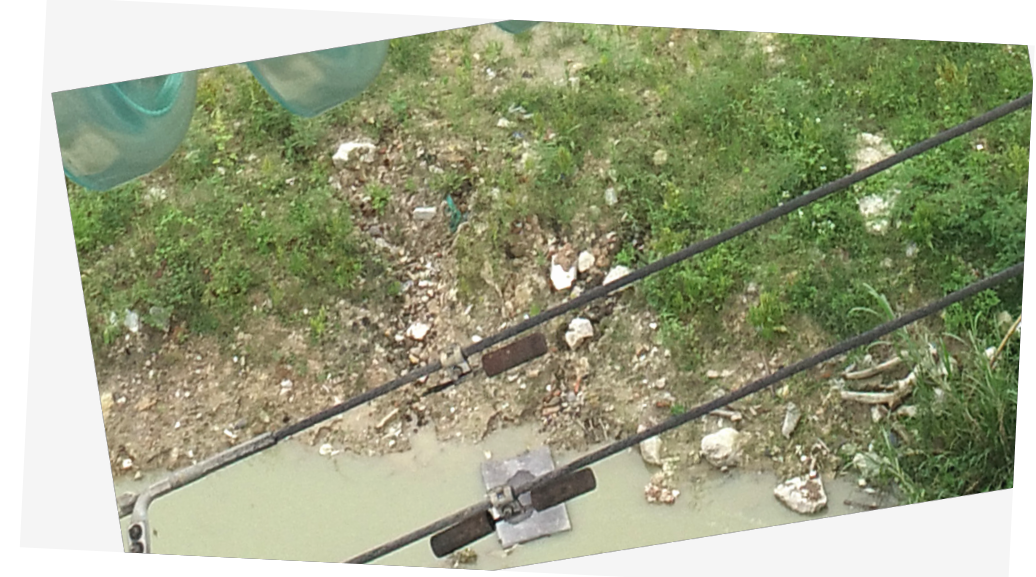damper: (427, 466, 597, 562)
damper_defect: (416, 325, 550, 402)
